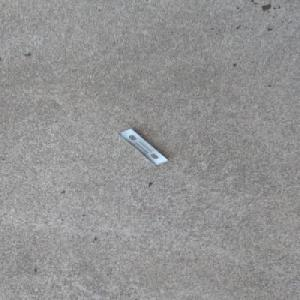ClampPart: (115, 127, 170, 166)
